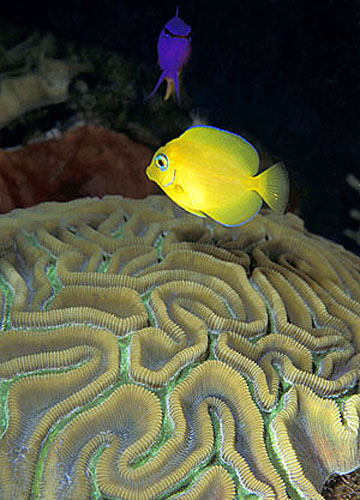Acanthurus_coeruleus: (141, 121, 291, 232)
